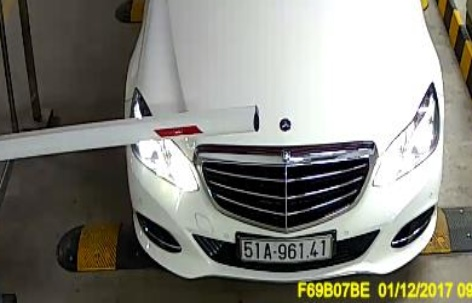plate: (237, 235, 333, 262)
